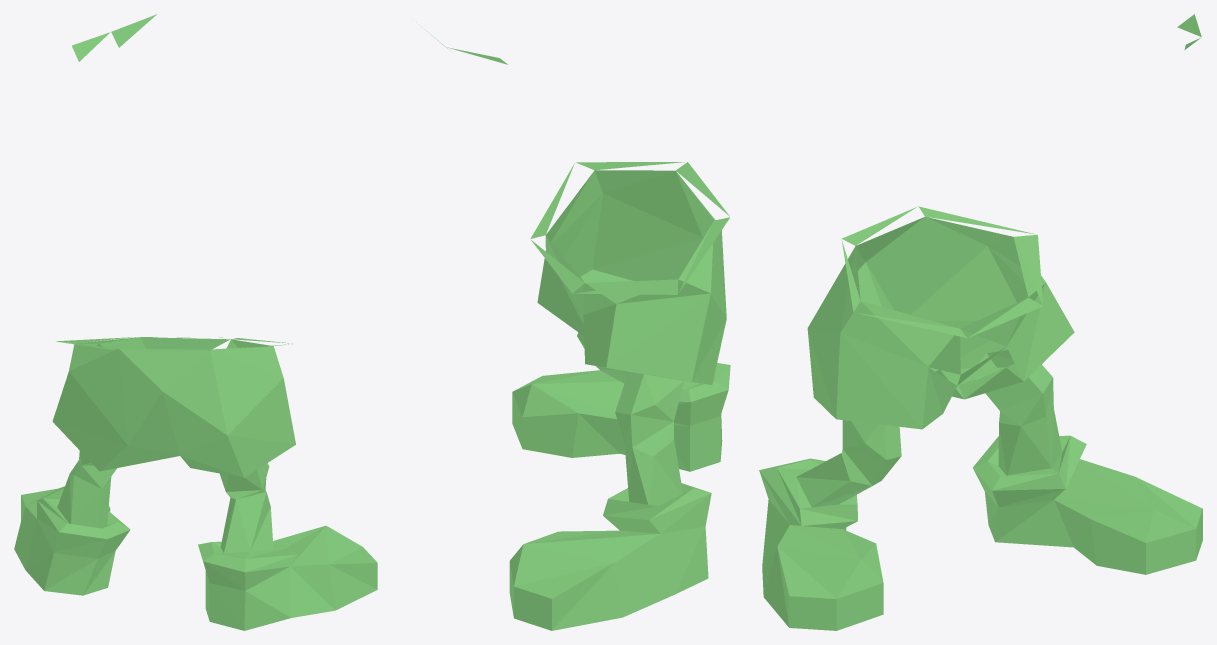
The model's file is jimstop.glb.
3 renders of one model, left to right at view 1: azimuth 30°, elevation 25°; view 2: azimuth 150°, elevation 25°; view 3: azimuth 270°, elevation 25°, orthographic. The views are drawn at different scales.
Visible parts, largest first — view 1: jimstop; view 2: jimstop; view 3: jimstop.
Part boxes in pixels (bbox=[...]): jimstop: bbox=[14, 14, 377, 630]; jimstop: bbox=[416, 22, 730, 630]; jimstop: bbox=[759, 14, 1202, 630].
Bounding box in the file's own units: 44.41 × 84.78 × 59.52.
